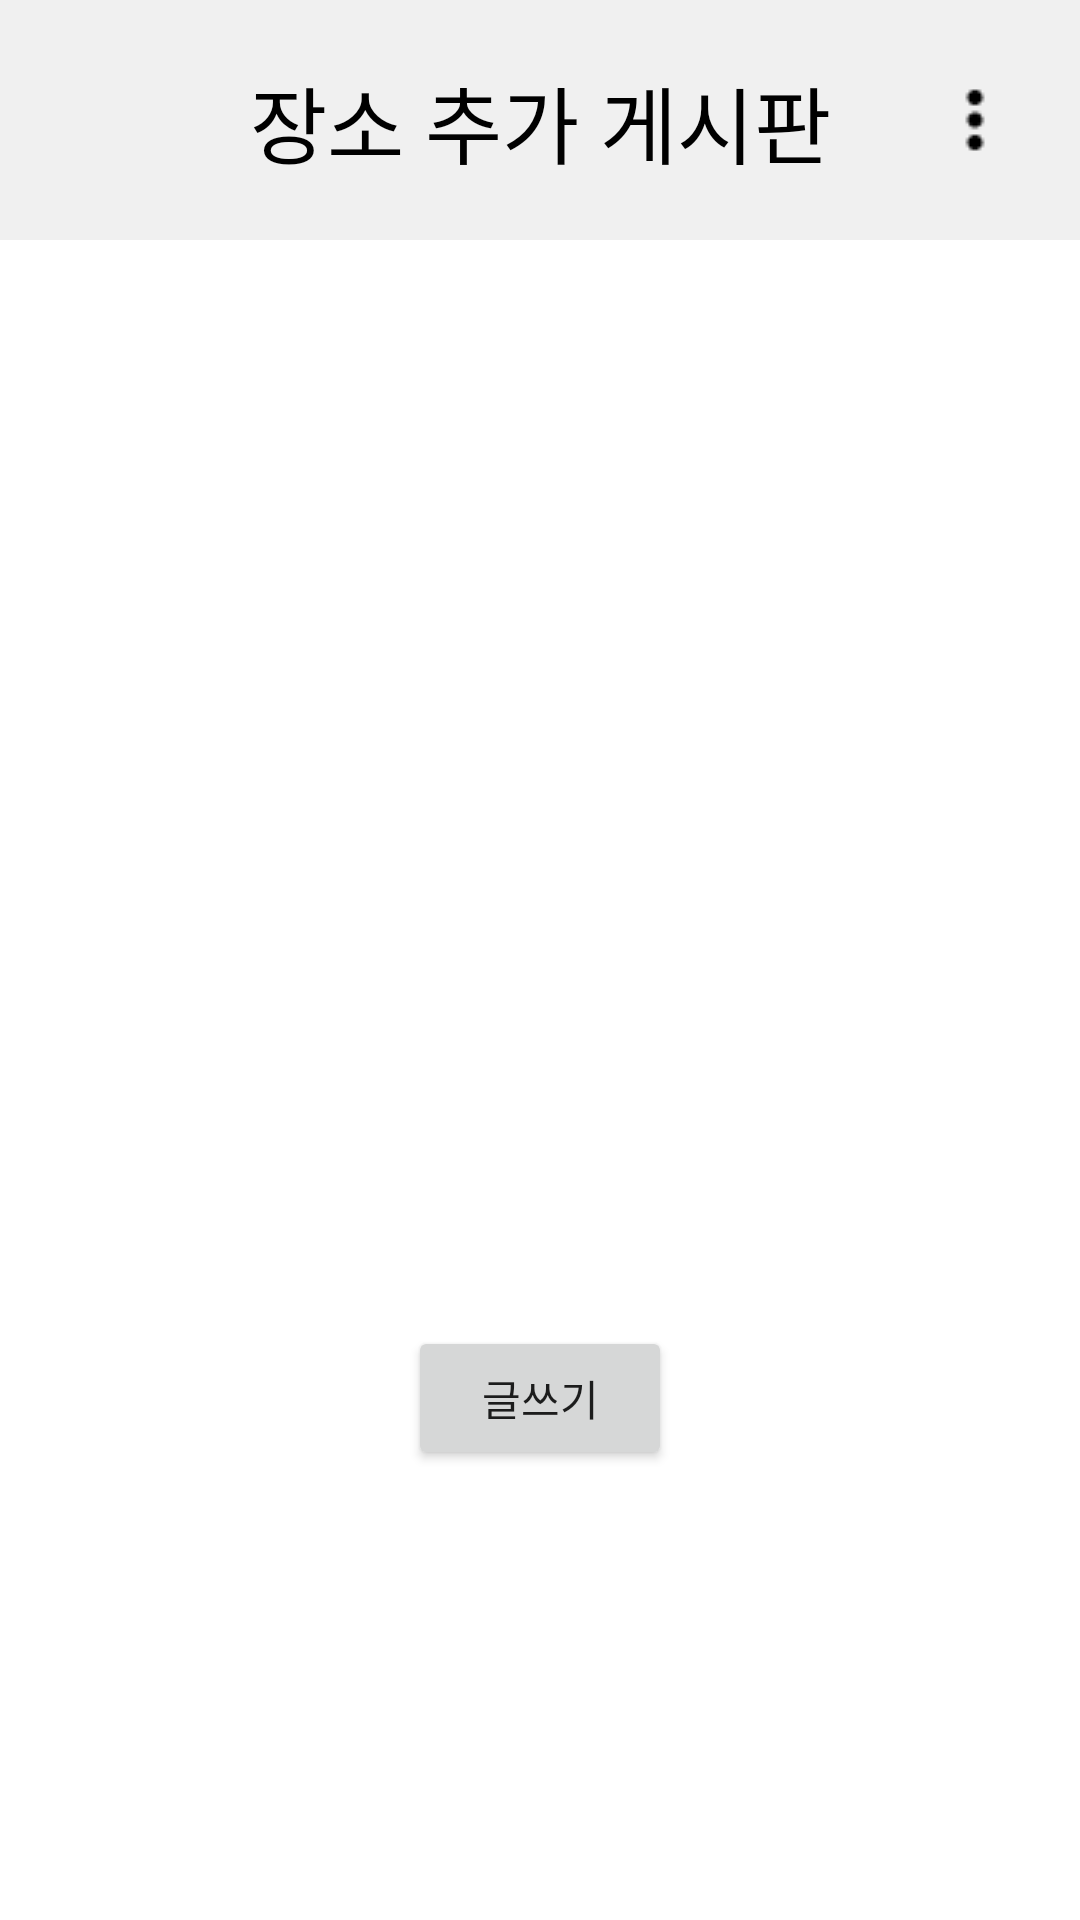

Where icons sit on this 1080*1920 app screen, as [left=x1, top=y1, right=x2, bottom=y2]:
more vertical: [left=965, top=89, right=985, bottom=151]
